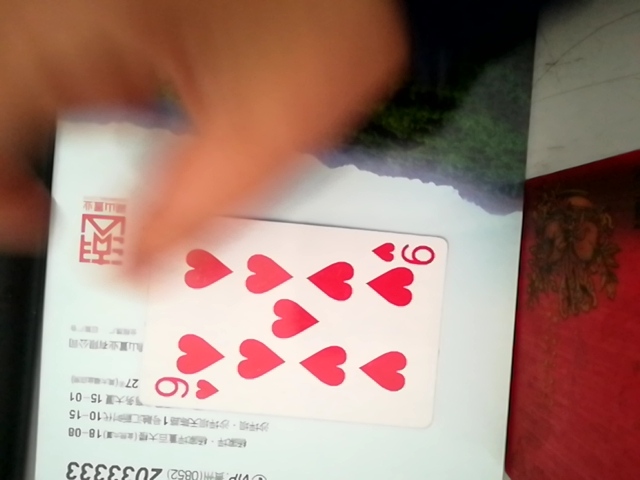hx 9: (146, 226, 446, 421)
